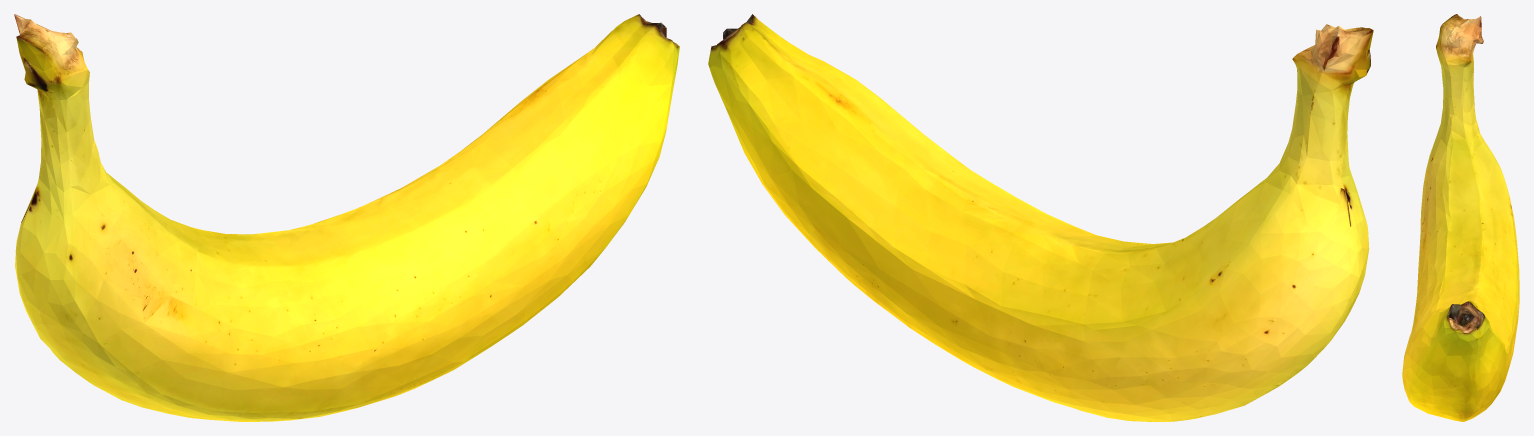
File: banana-transformed.glb
The picture shows the model from 3 angles, left to right: view 1: azimuth 30°, elevation 25°; view 2: azimuth 150°, elevation 25°; view 3: azimuth 270°, elevation 25°; orthographic projection. The views are drawn at different scales.
Visible parts, largest first — view 1: banana; view 2: banana; view 3: banana.
Part boxes in pixels (x1,y1,x2,y2): banana: [14, 14, 679, 421]; banana: [708, 14, 1373, 421]; banana: [1402, 14, 1519, 421].
Bounding box in the file's own units: 6.79 × 4.43 × 1.62.
1 material, 1 textured.
